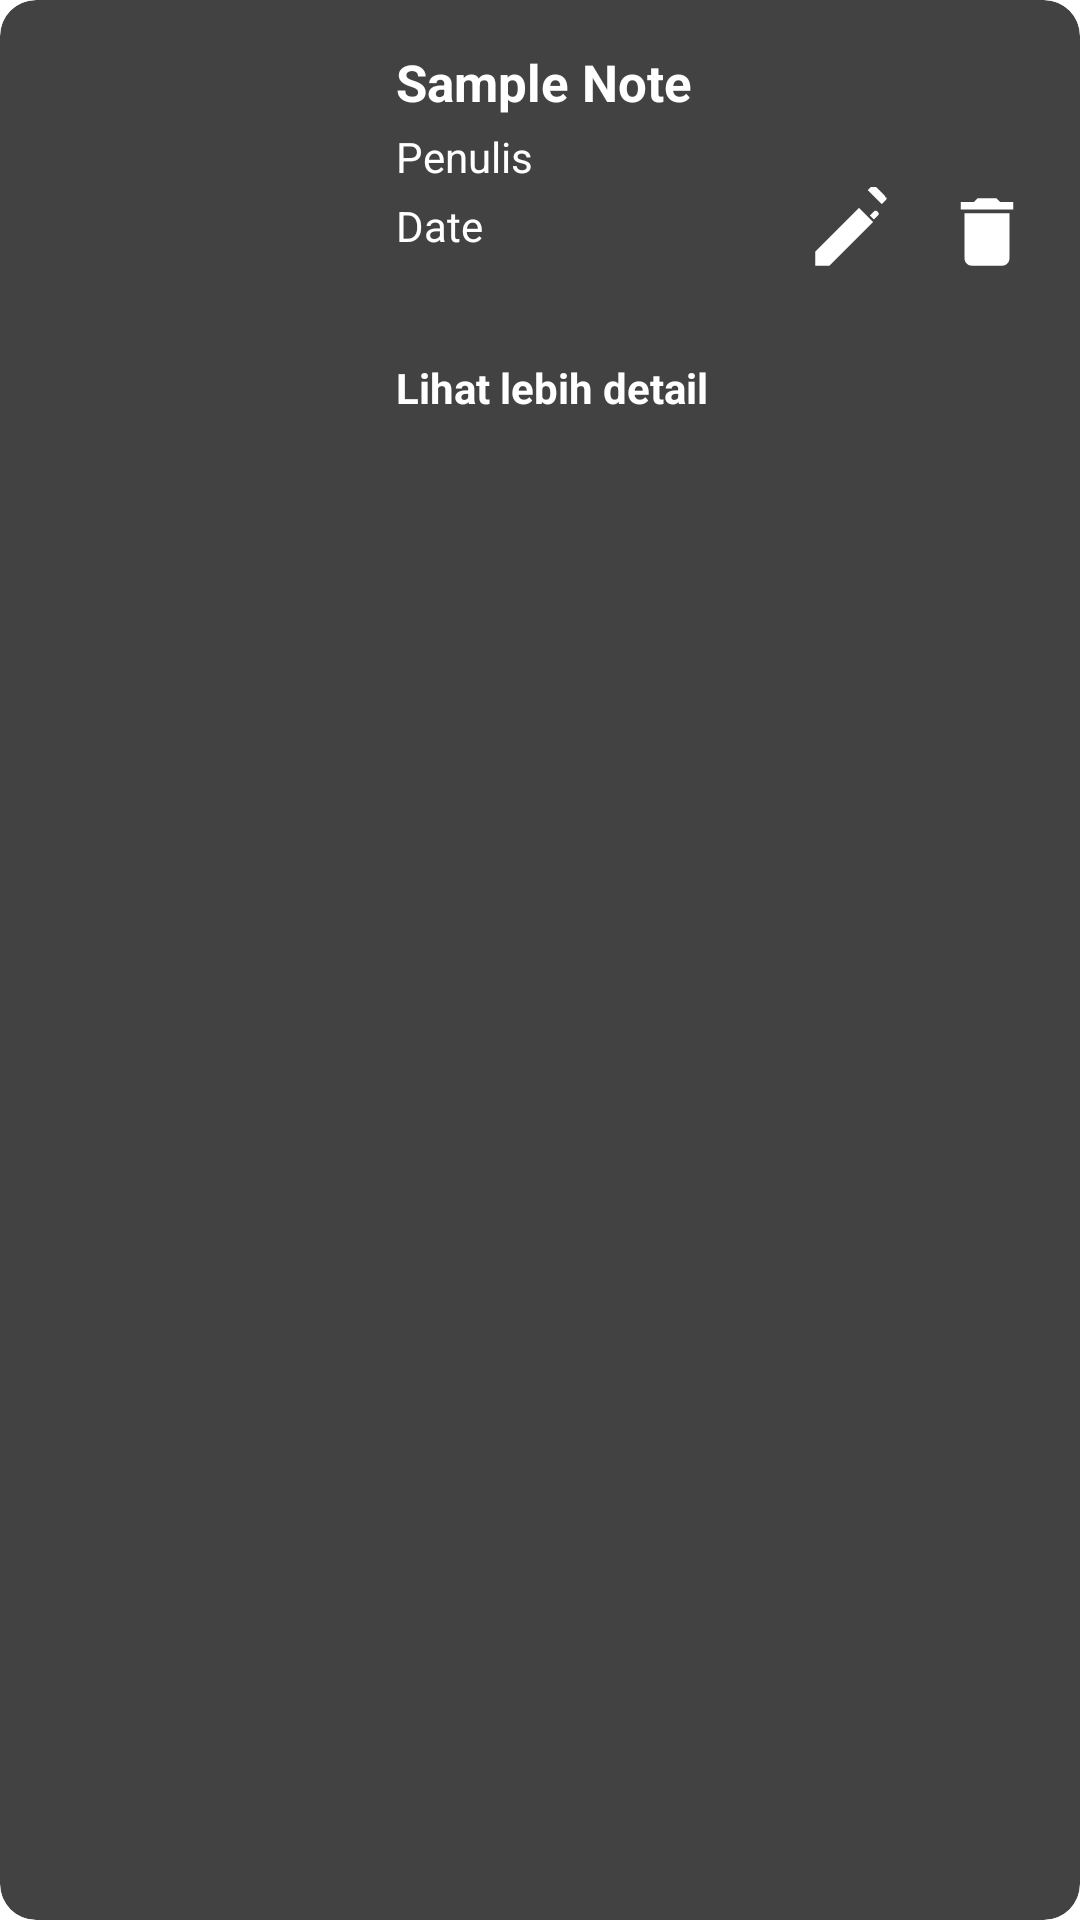

Screen size 1080 x 1920. Icon name, then its center in pixels as [x,y]:
Delete Note: [987,232]
Edit Note: [851,226]
